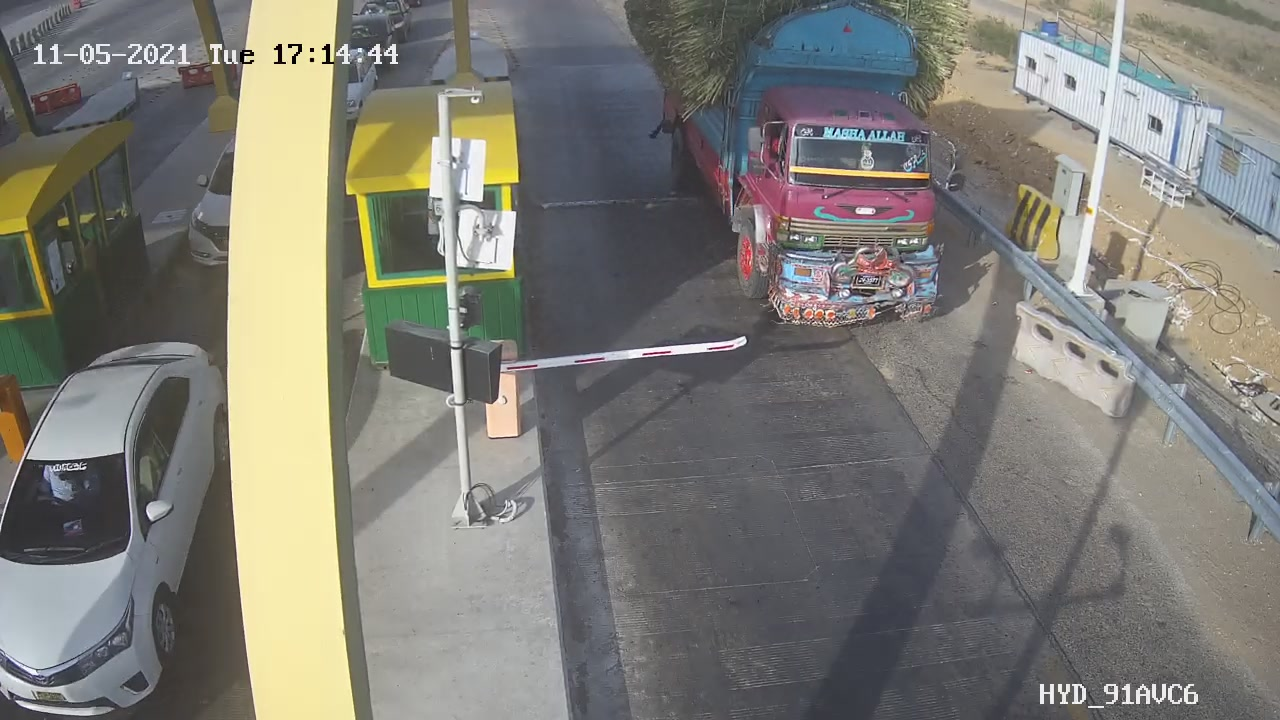F5: (625, 4, 987, 342)
